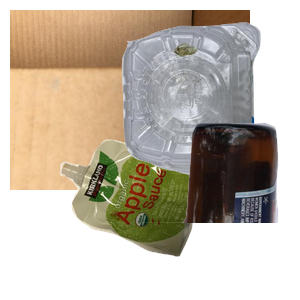cardboard: (10, 10, 250, 190)
glass: (87, 120, 300, 300)
plastic: (119, 20, 300, 190)
trash: (57, 137, 257, 300)
